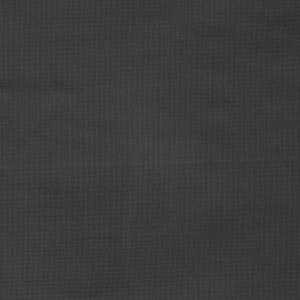Wrinkle: (1, 70, 95, 105)
